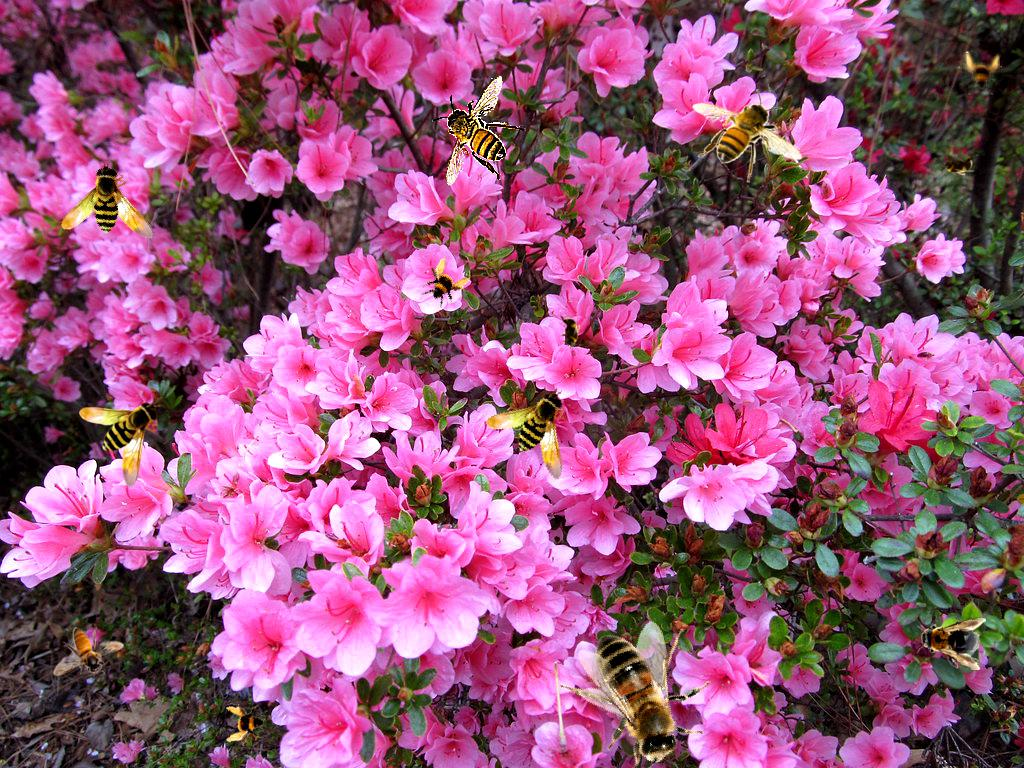Bee: (532, 589, 755, 768), (52, 157, 174, 277), (482, 386, 588, 496), (692, 89, 803, 183), (432, 75, 526, 186), (79, 400, 161, 488), (914, 613, 986, 671), (412, 252, 474, 314), (53, 627, 124, 677), (223, 701, 271, 749), (958, 51, 1002, 95), (559, 312, 581, 352), (938, 154, 978, 176)
